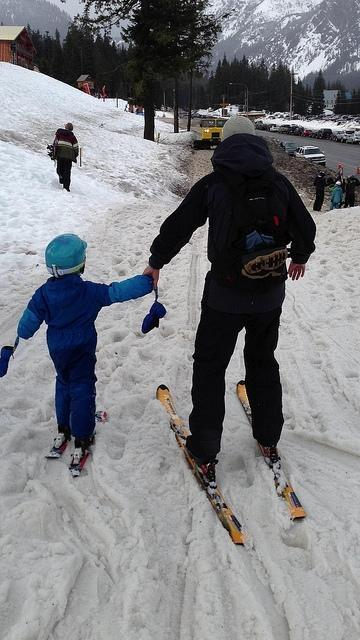car: (293, 145, 327, 167), (318, 118, 346, 138), (278, 139, 300, 155), (334, 130, 356, 142), (278, 123, 292, 135), (346, 134, 360, 144), (300, 128, 314, 138), (287, 127, 295, 135)
